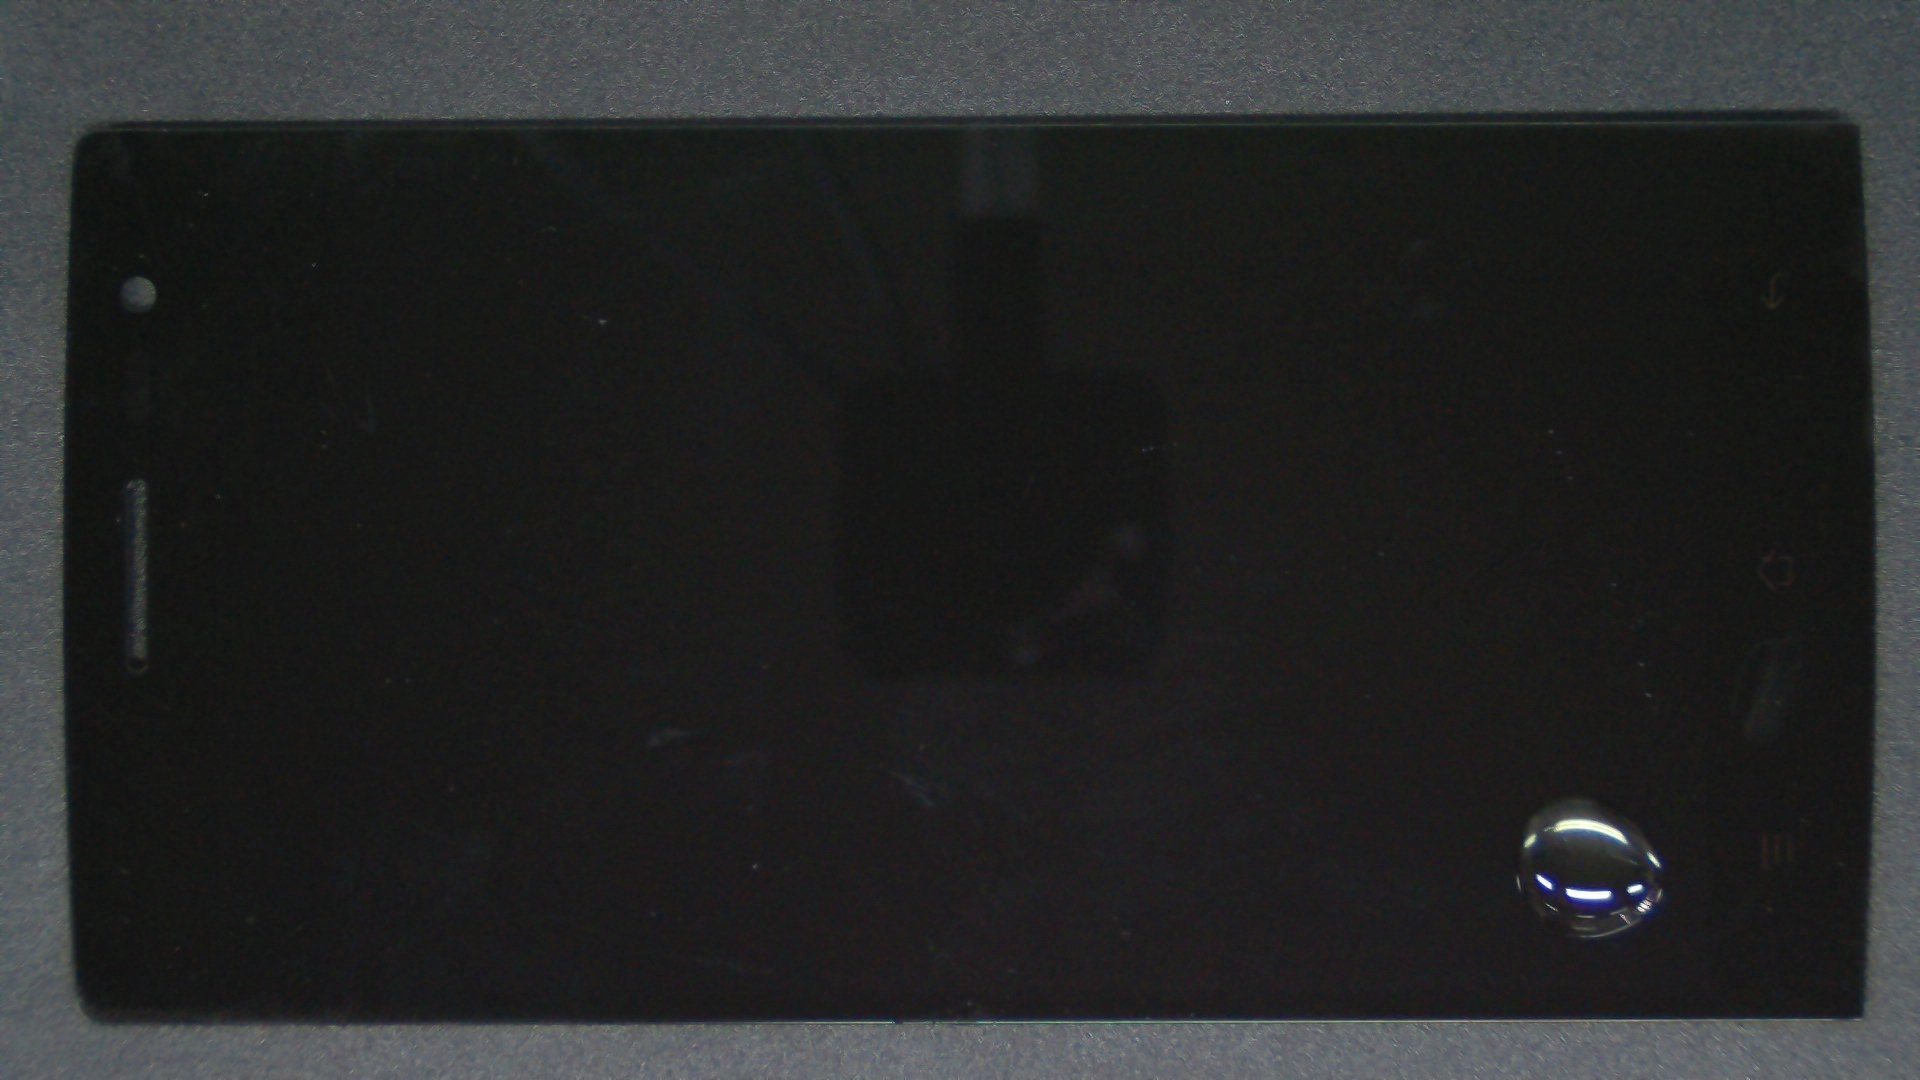oil: (787, 397, 1920, 1080)
